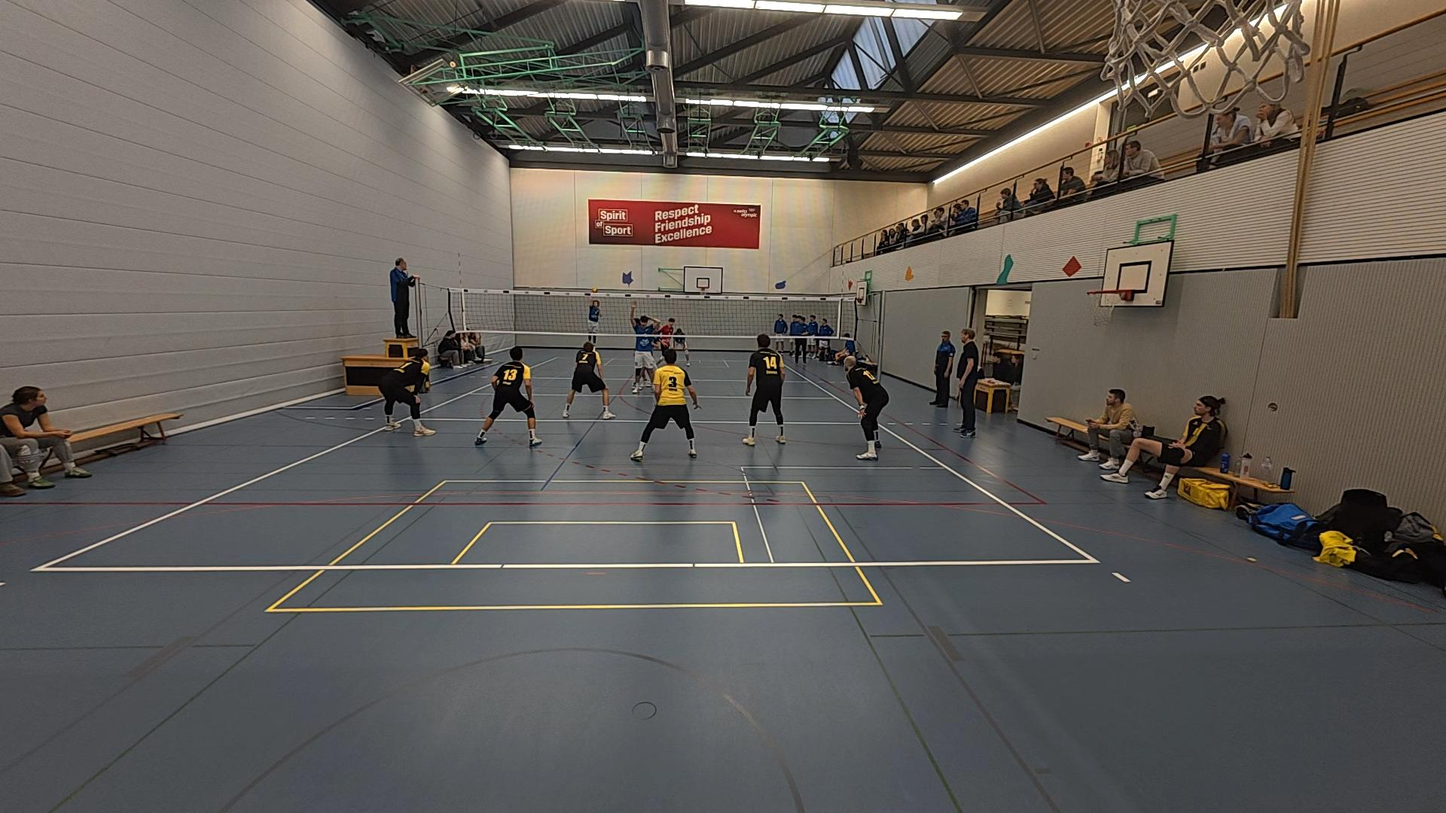Player: (631, 350, 700, 459), (474, 346, 542, 448), (845, 351, 890, 459), (743, 336, 787, 446), (380, 347, 432, 435), (562, 335, 615, 419), (626, 303, 659, 395), (670, 323, 693, 366), (662, 316, 676, 367)
Serve: (584, 288, 606, 340)
ball: (901, 264, 916, 279), (588, 288, 602, 295)
